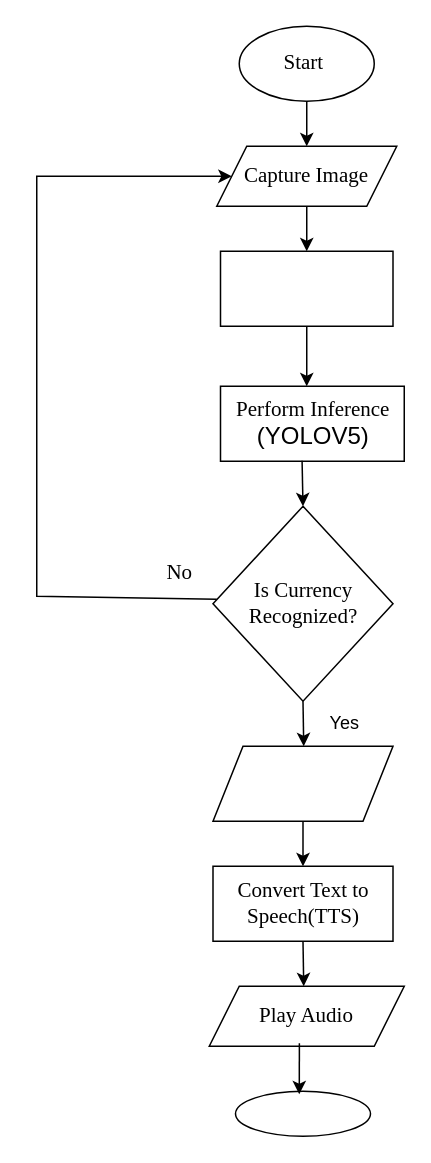
This 431x1163 diagram has some shape labels left out. The centre of each missing label's shape, as x and y in pixels:
"End" goes at point (302, 1113).
"Generate Text" goes at point (302, 783).
"Preprocess Image" goes at point (306, 288).
